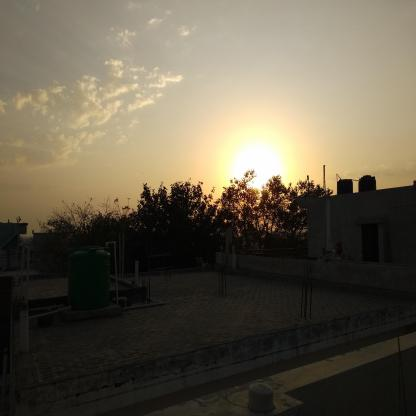other: (222, 126, 300, 204)
